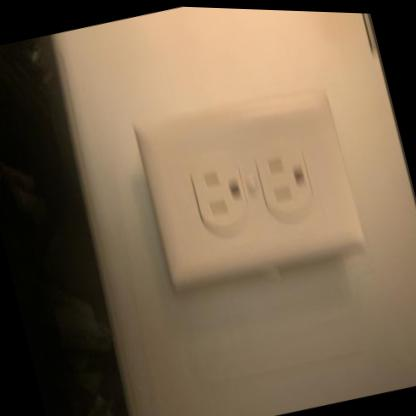OUTLET: (130, 77, 368, 299)
